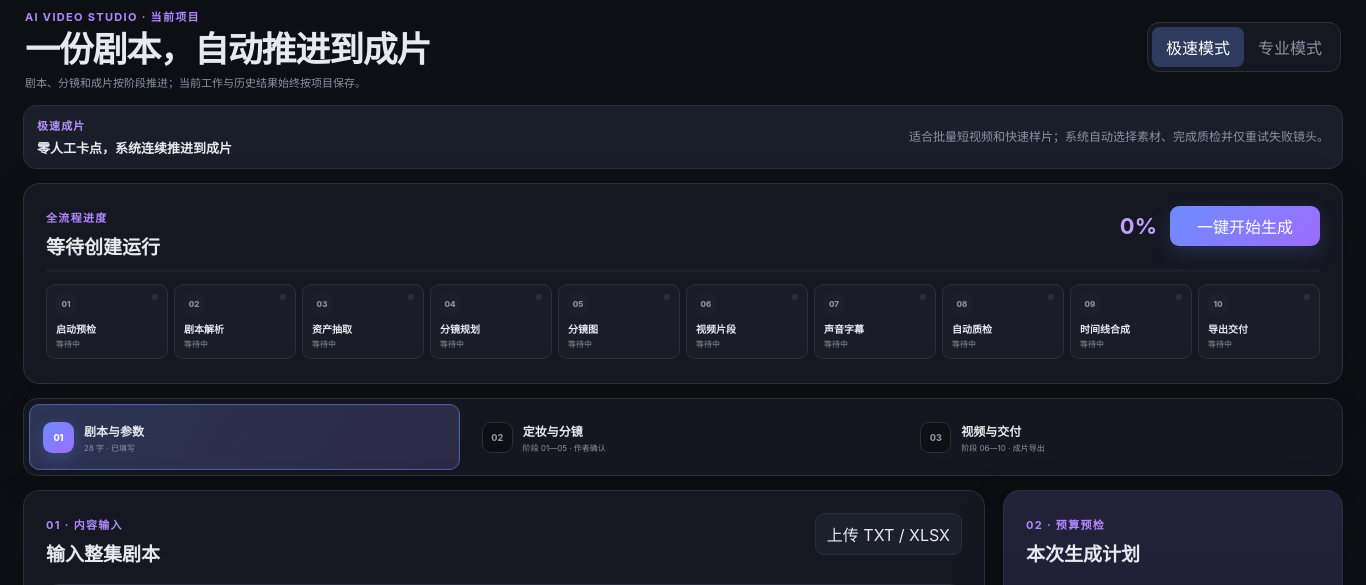
Test: VideoStudio › 测试壳一键运行只到分镜图，作者确认后才自动执行06—10
What coordinates should you click on to do the following:
click the button "一键开始生成"
I would click on:
 (1245, 226)
Its box is top-left (1170, 206), bottom-right (1320, 246).
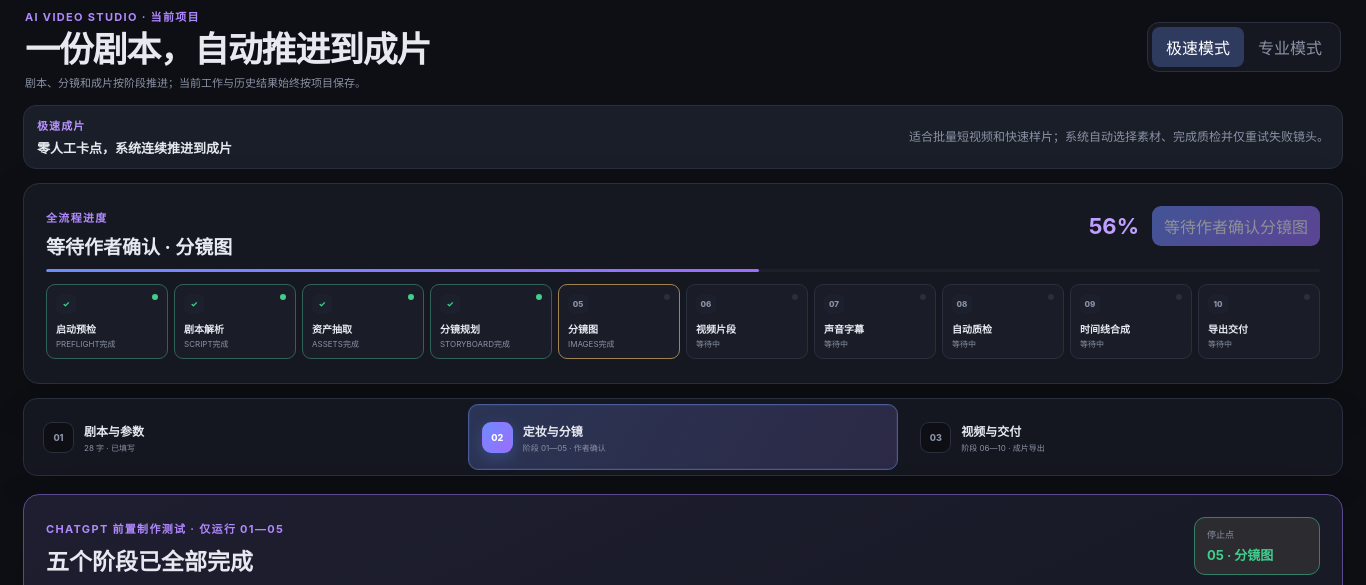
expect the button "等待作者确认分镜图" is shown: met, box top-left (1152, 206), bottom-right (1320, 246)
expect the heading "等待作者确认 · 分镜图" is shown: met, box top-left (46, 232), bottom-right (232, 258)
What coordinates should you click on to do the following:
click the button "03 视频与交付 阶段 06—10 · 成片导出"
I would click on:
 (936, 437)
Its box is top-left (906, 404), bottom-right (1337, 470).
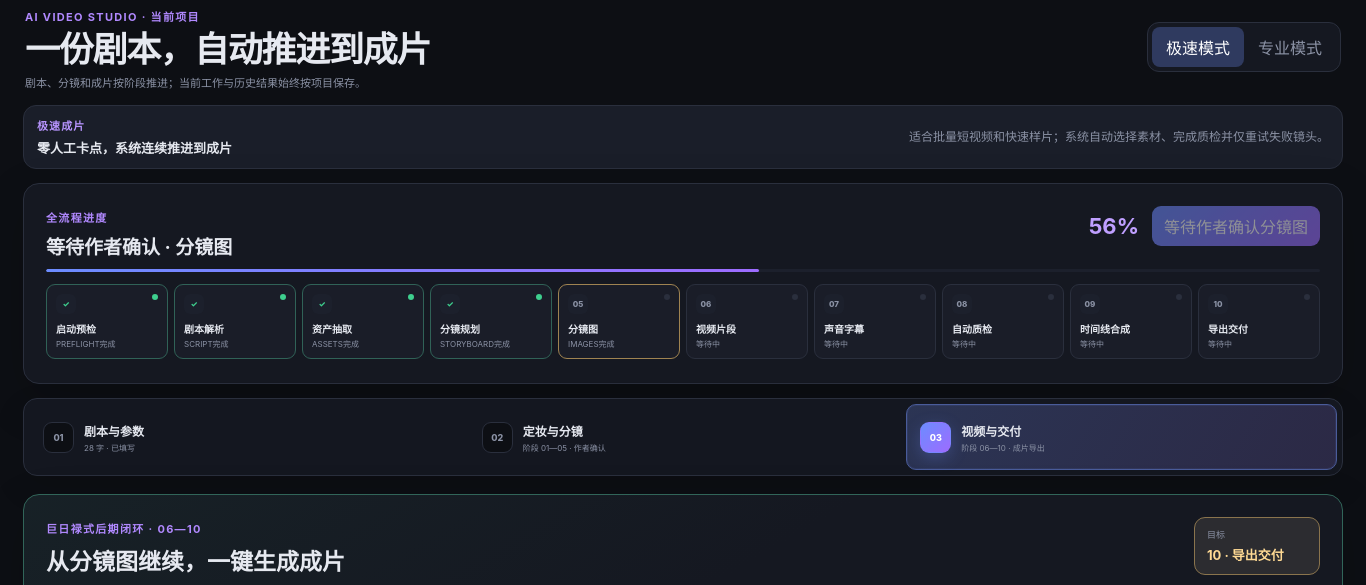
What coordinates should you click on to do the following:
click the button "02 定妆与分镜 阶段 01—05 · 作者确认"
I would click on:
 (497, 437)
Its box is top-left (468, 404), bottom-right (898, 470).
(page scrolled)
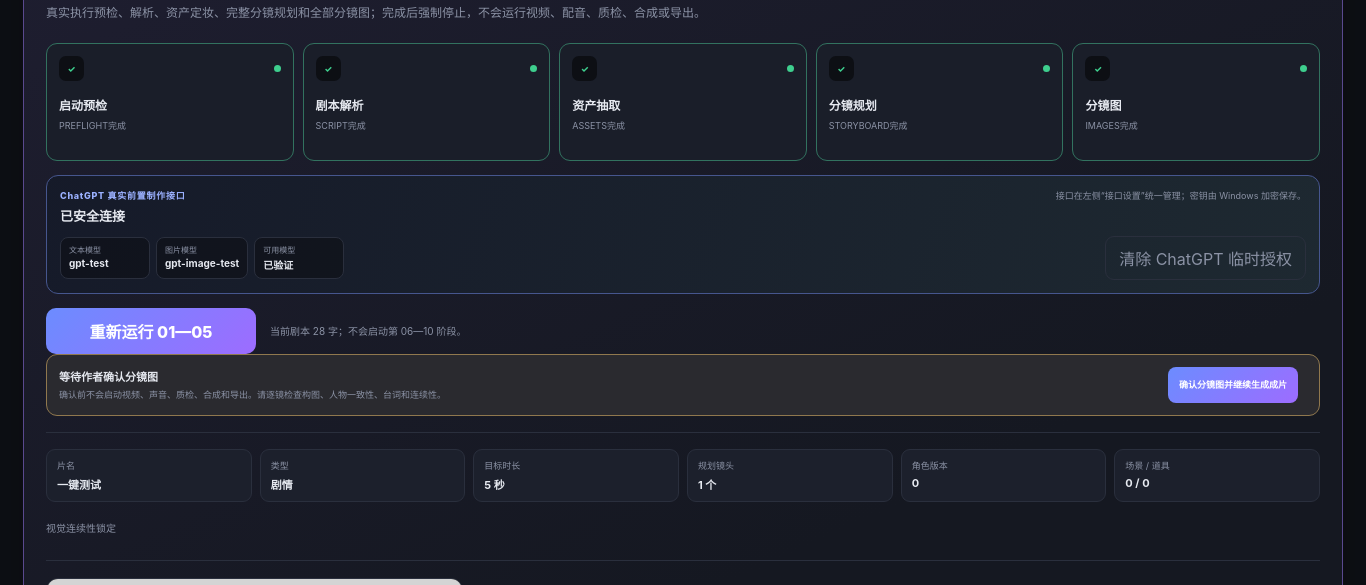
What coordinates should you click on to do the following:
click the button "确认分镜图并继续生成成片"
I would click on:
 (1233, 385)
Its box is top-left (1168, 367), bottom-right (1298, 403).
(page scrolled)
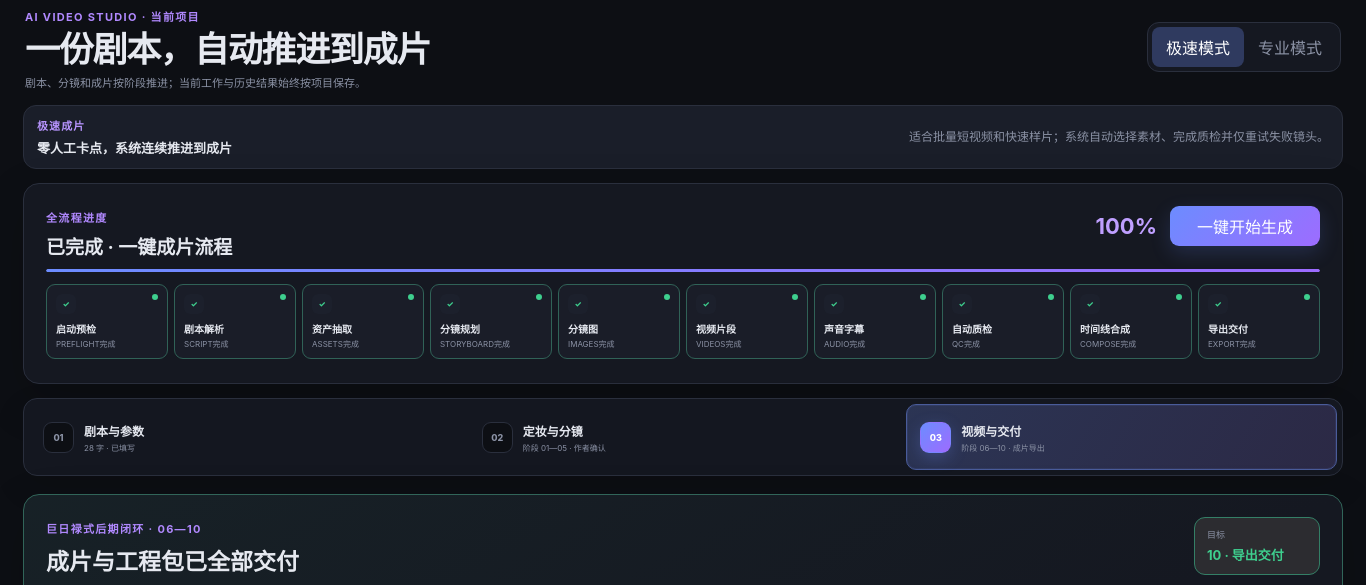
expect the heading "成片与工程包已全部交付" is shown: met, box top-left (46, 548), bottom-right (299, 576)
expect the button "一键开始生成" is enabled: met, box top-left (1170, 206), bottom-right (1320, 246)
